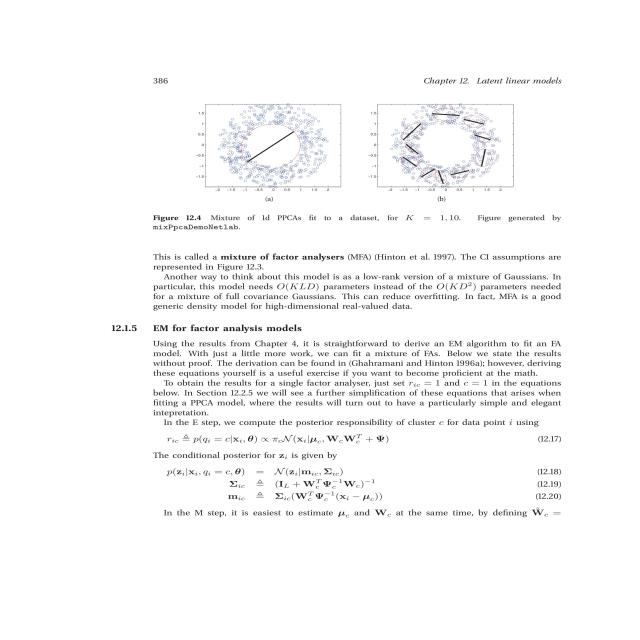diagram: (113, 63, 580, 244)
